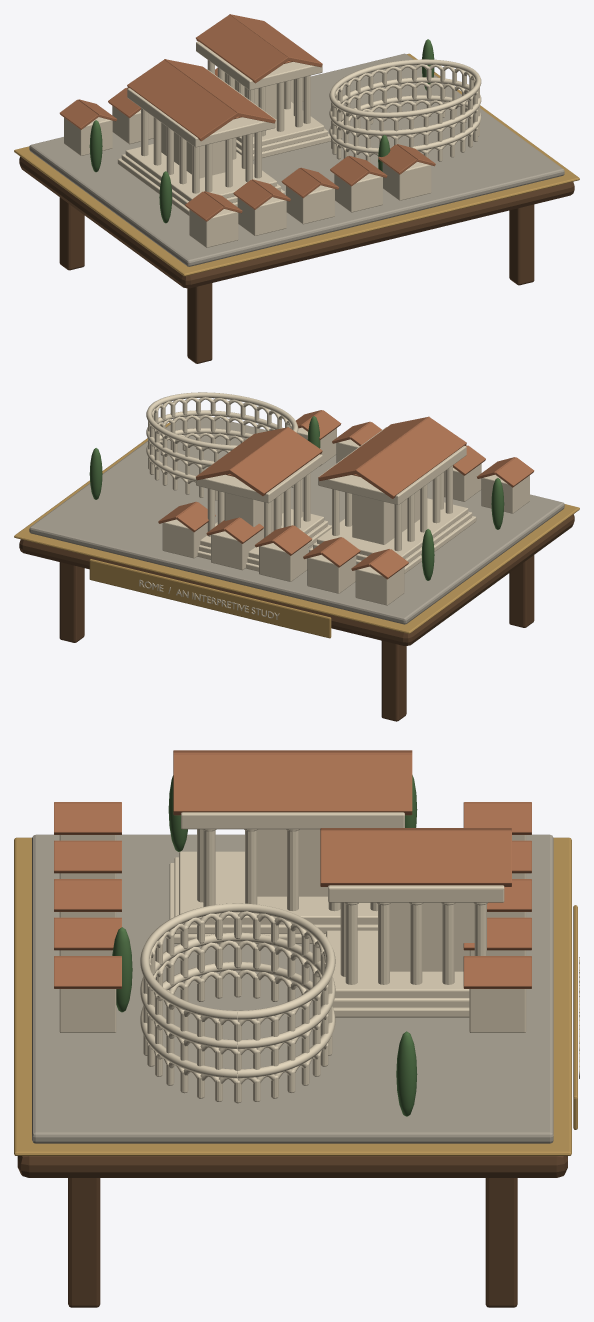
Rendered from ForumTable.glb.
3 renders of one model, top to bottom at view 1: azimuth 30°, elevation 25°; view 2: azimuth 150°, elevation 25°; view 3: azimuth 270°, elevation 25°, orthographic. The views are drawn at different scales.
Visible parts, largest first — view 1: Miniature stone site, Museum tabletop, Table bronze edge, Terracotta temple roof, Terracotta temple roof.002, Temple podium.002, Amphitheatre cornice.002, Carved table leg.002, Carved table leg, Temple entablature, Terracotta temple roof.001, Amphitheatre cornice.001 (+27 smaller); view 2: Miniature stone site, Table bronze edge, Forum model title plaque, Museum tabletop, Terracotta temple roof, Terracotta temple roof.002, Temple cella, Temple podium.002, Carved table leg.001, Carved table leg.003, Temple entablature, Terracotta temple roof.001 (+30 smaller); view 3: Miniature stone site, Table bronze edge, Terracotta temple roof.001, Museum tabletop, Terracotta temple roof.003, Temple podium.002, Amphitheatre cornice.002, Carved table leg.002, Carved table leg.003, Temple podium.005, Temple cella.001, Temple entablature (+30 smaller).
Boxes of the visible parts, x1,y1,x2,y2 form: Miniature stone site: (29, 53, 564, 266); Museum tabletop: (19, 156, 574, 288); Table bronze edge: (14, 53, 579, 276); Terracotta temple roof: (127, 59, 238, 141); Terracotta temple roof.002: (196, 14, 289, 83); Temple podium.002: (125, 144, 276, 201); Amphitheatre cornice.002: (329, 59, 481, 117); Carved table leg.002: (509, 204, 534, 285); Carved table leg: (187, 283, 212, 363); Temple entablature: (127, 69, 275, 147); Terracotta temple roof.001: (164, 59, 275, 123); Amphitheatre cornice.001: (329, 77, 481, 135); Miniature stone site: (29, 415, 564, 624); Table bronze edge: (14, 422, 579, 633); Forum model title plaque: (89, 559, 331, 638); Museum tabletop: (19, 514, 574, 645); Terracotta temple roof: (354, 416, 466, 498); Terracotta temple roof.002: (228, 427, 322, 495); Temple cella: (352, 490, 419, 544); Temple podium.002: (317, 498, 468, 558); Carved table leg.001: (381, 640, 406, 721); Carved table leg.003: (59, 562, 84, 642); Temple entablature: (318, 427, 466, 504); Terracotta temple roof.001: (318, 416, 429, 481); Miniature stone site: (32, 834, 553, 1143); Table bronze edge: (14, 837, 571, 1155); Terracotta temple roof.001: (173, 752, 412, 815); Museum tabletop: (17, 1156, 567, 1177); Terracotta temple roof.003: (320, 830, 511, 886); Temple podium.002: (179, 851, 377, 924); Amphitheatre cornice.002: (140, 903, 335, 1019); Carved table leg.002: (68, 1178, 100, 1307); Carved table leg.003: (485, 1178, 517, 1307); Temple podium.005: (326, 930, 469, 997); Temple cella.001: (390, 902, 474, 971); Temple entablature: (181, 812, 404, 829).
Size of the model in its own units: 3.94 by 2.01 by 2.98.
